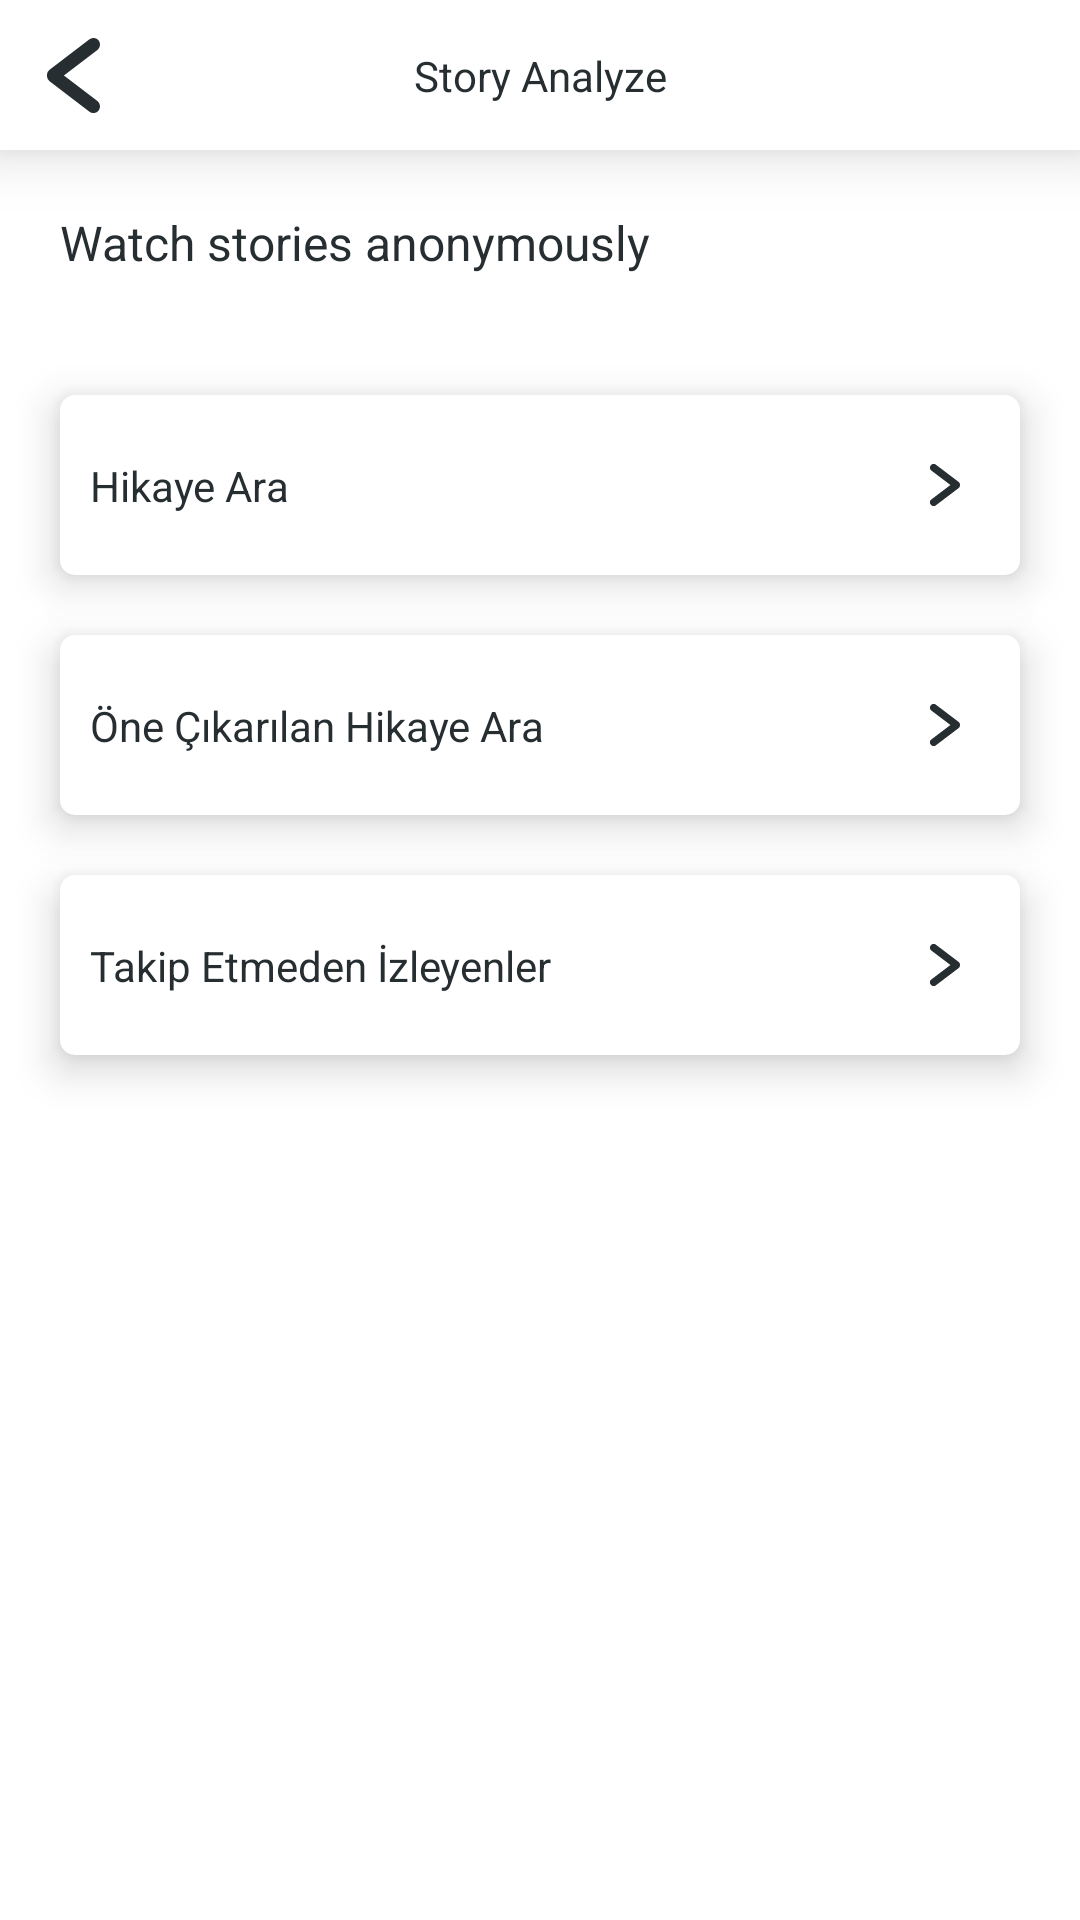

Icons on this 1080px×1920px Android screen, each with the point to tap as point (x, y):
back: point (73, 75)
next: point (945, 485), point (945, 725), point (945, 965)
